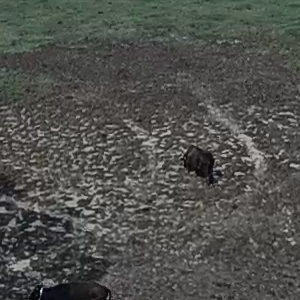cow: (171, 139, 221, 189)
